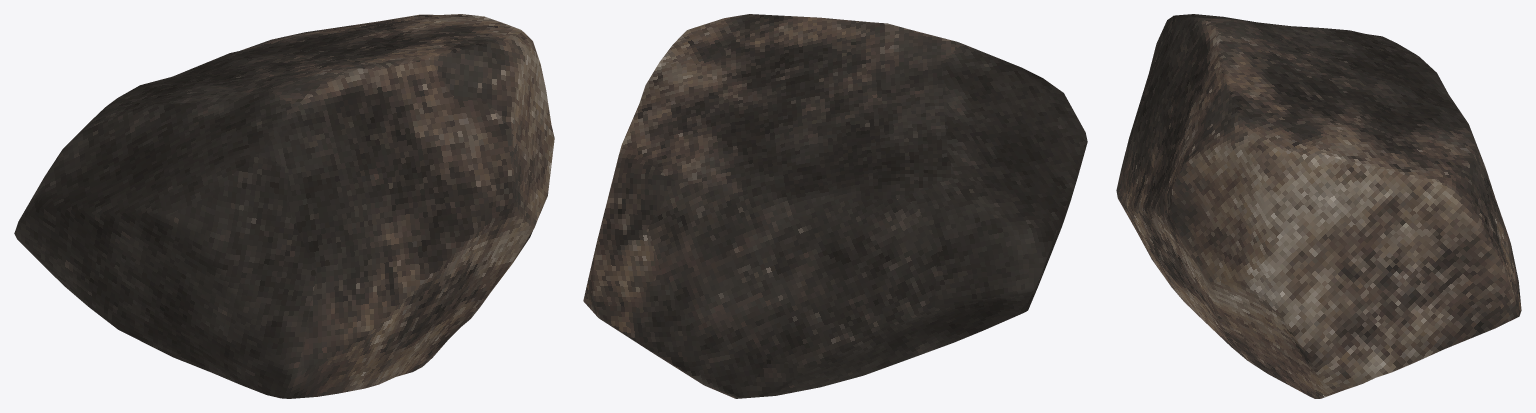
Rendered from SM_RP_Rock_4m_4.glb.
3 renders of one model, left to right at view 1: azimuth 30°, elevation 25°; view 2: azimuth 150°, elevation 25°; view 3: azimuth 270°, elevation 25°, orthographic. The views are drawn at different scales.
Visible parts, largest first — view 1: SM_RP_Rock_4m_4; view 2: SM_RP_Rock_4m_4; view 3: SM_RP_Rock_4m_4.
Part boxes in pixels (box(x1,y1,x2,y2)): SM_RP_Rock_4m_4: box(14, 14, 554, 398); SM_RP_Rock_4m_4: box(583, 14, 1087, 398); SM_RP_Rock_4m_4: box(1116, 14, 1521, 398).
Bounding box in the file's own units: 6.48 × 4.37 × 5.39.
Materials: 1 (1 with a texture image).
